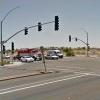Traffic light: (17, 11, 69, 39)
